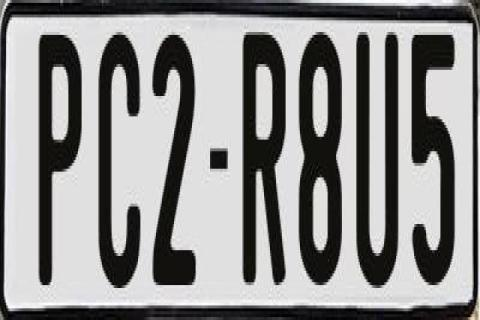0: (408, 29, 458, 294), (152, 35, 199, 297), (298, 32, 342, 302)
C: (96, 26, 140, 288)
P: (35, 32, 86, 288)
R: (243, 23, 293, 285)
U: (356, 24, 406, 282)
